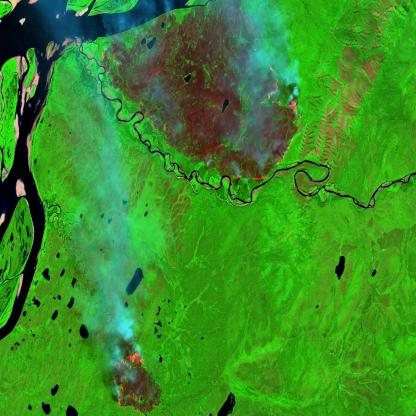fire: (230, 63, 300, 187), (110, 350, 150, 416)
